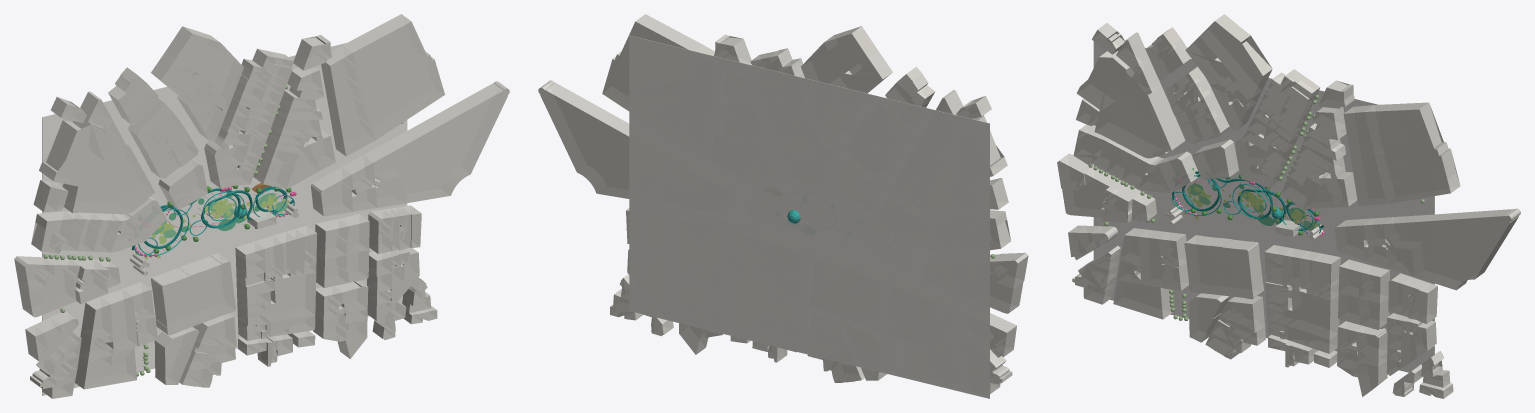
File: refugio_fase01.obj
The picture shows the model from 3 angles, left to right: view 1: azimuth 30°, elevation 25°; view 2: azimuth 150°, elevation 25°; view 3: azimuth 330°, elevation 25°; orthographic projection. The views are drawn at different scales.
Visible parts, largest first — view 1: 01_CONTEXTO_EDIFICIOS, 00_SUELO_PLAZA, 03_CINTA, 02_LOOPS, 05_DISCOS, 10_ARBOLES_EXIST, 06_BALSAS; view 2: 00_SUELO_PLAZA, 01_CONTEXTO_EDIFICIOS; view 3: 01_CONTEXTO_EDIFICIOS, 00_SUELO_PLAZA, 10_ARBOLES_EXIST, 02_LOOPS, 03_CINTA, 05_DISCOS, 06_BALSAS.
Boxes of the visible parts, x1=… form: 01_CONTEXTO_EDIFICIOS: x1=14, y1=14, x2=509, y2=398; 00_SUELO_PLAZA: x1=42, y1=43, x2=407, y2=395; 03_CINTA: x1=131, y1=186, x2=293, y2=250; 02_LOOPS: x1=134, y1=188, x2=294, y2=255; 05_DISCOS: x1=135, y1=187, x2=289, y2=259; 10_ARBOLES_EXIST: x1=42, y1=85, x2=403, y2=376; 06_BALSAS: x1=151, y1=193, x2=287, y2=237; 00_SUELO_PLAZA: x1=629, y1=35, x2=989, y2=398; 01_CONTEXTO_EDIFICIOS: x1=538, y1=14, x2=1028, y2=393; 01_CONTEXTO_EDIFICIOS: x1=1057, y1=14, x2=1520, y2=398; 00_SUELO_PLAZA: x1=1093, y1=35, x2=1434, y2=372; 10_ARBOLES_EXIST: x1=1088, y1=94, x2=1425, y2=320; 02_LOOPS: x1=1171, y1=175, x2=1320, y2=233; 03_CINTA: x1=1172, y1=171, x2=1323, y2=230; 05_DISCOS: x1=1175, y1=186, x2=1318, y2=231; 06_BALSAS: x1=1187, y1=184, x2=1315, y2=230.
Size of the model in its own units: 492 by 353 by 32.1.
